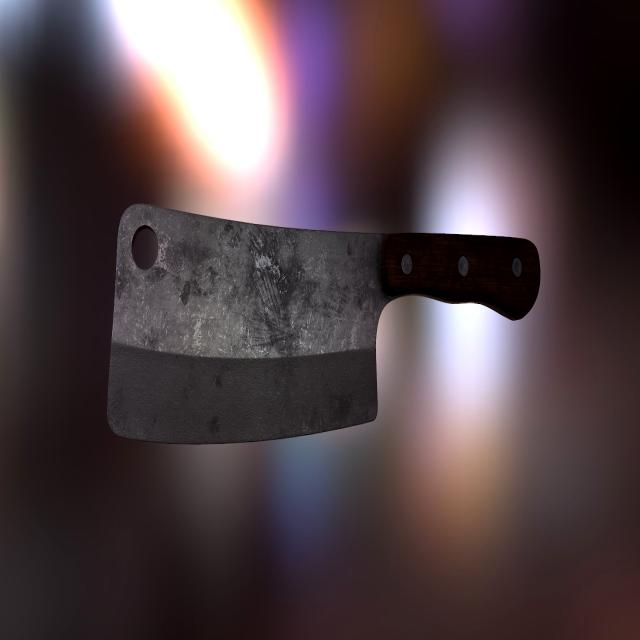cleaver: (112, 203, 542, 430)
